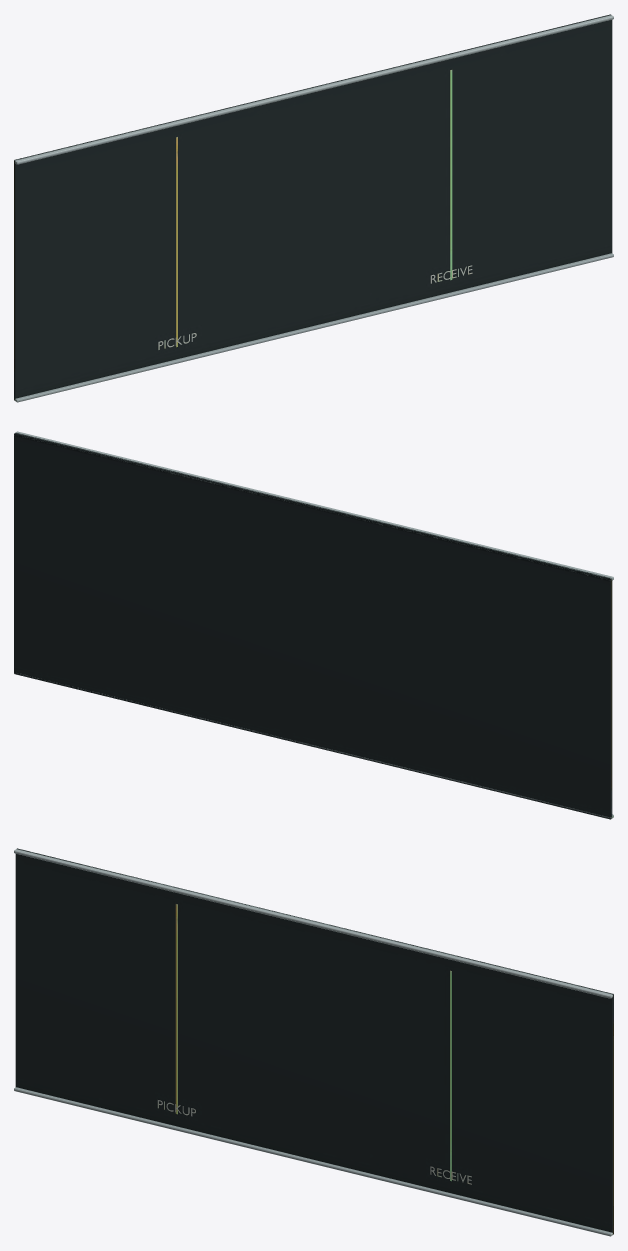
Rendered from station_tray.obj.
The picture shows the model from 3 angles, top to bottom: view 1: azimuth 30°, elevation 25°; view 2: azimuth 150°, elevation 25°; view 3: azimuth 330°, elevation 25°; orthographic projection.
Parts seen in each view (by area): view 1: station_tray; view 2: station_tray; view 3: station_tray.
Boxes of the visible parts, x1,y1,x2,y2 form: station_tray: (14, 14, 613, 402); station_tray: (14, 431, 613, 819); station_tray: (14, 848, 613, 1236).
Bounding box in the file's own units: 0.61 × 0.235 × 0.006.
Materials: 3 (3 with a texture image).
